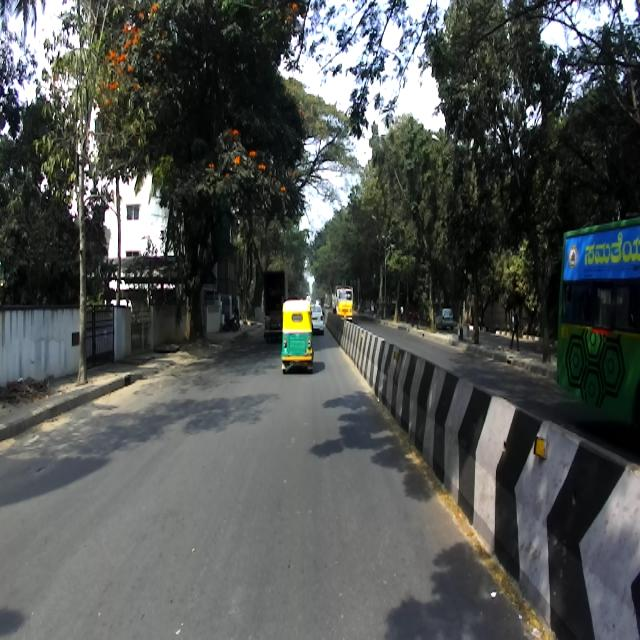auto ahead at: (278, 298, 319, 384)
electric pole ahead at: (73, 128, 94, 388)
